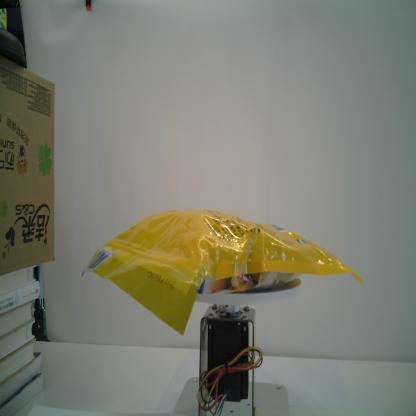Dried Food: (81, 207, 365, 336)
